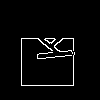K: (25, 25, 74, 64)
